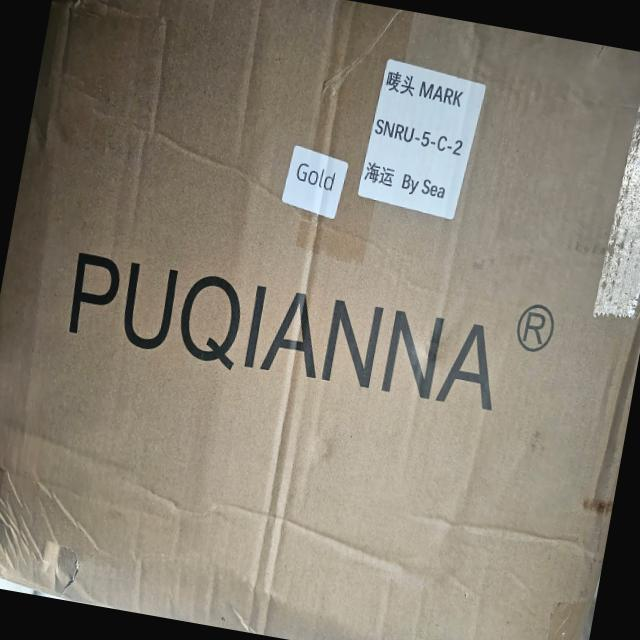carton_box: (0, 0, 640, 640)
export_mark_label: (356, 52, 494, 226)
package_damage: (0, 431, 126, 606)
